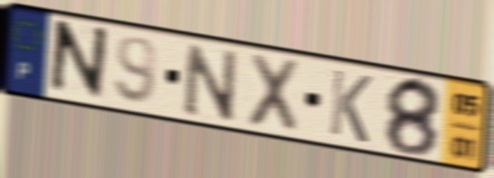8: (382, 75, 444, 159)
9: (113, 34, 160, 107)
K: (326, 66, 375, 147)
N: (45, 17, 112, 104), (182, 39, 240, 124)
X: (243, 49, 304, 138)
